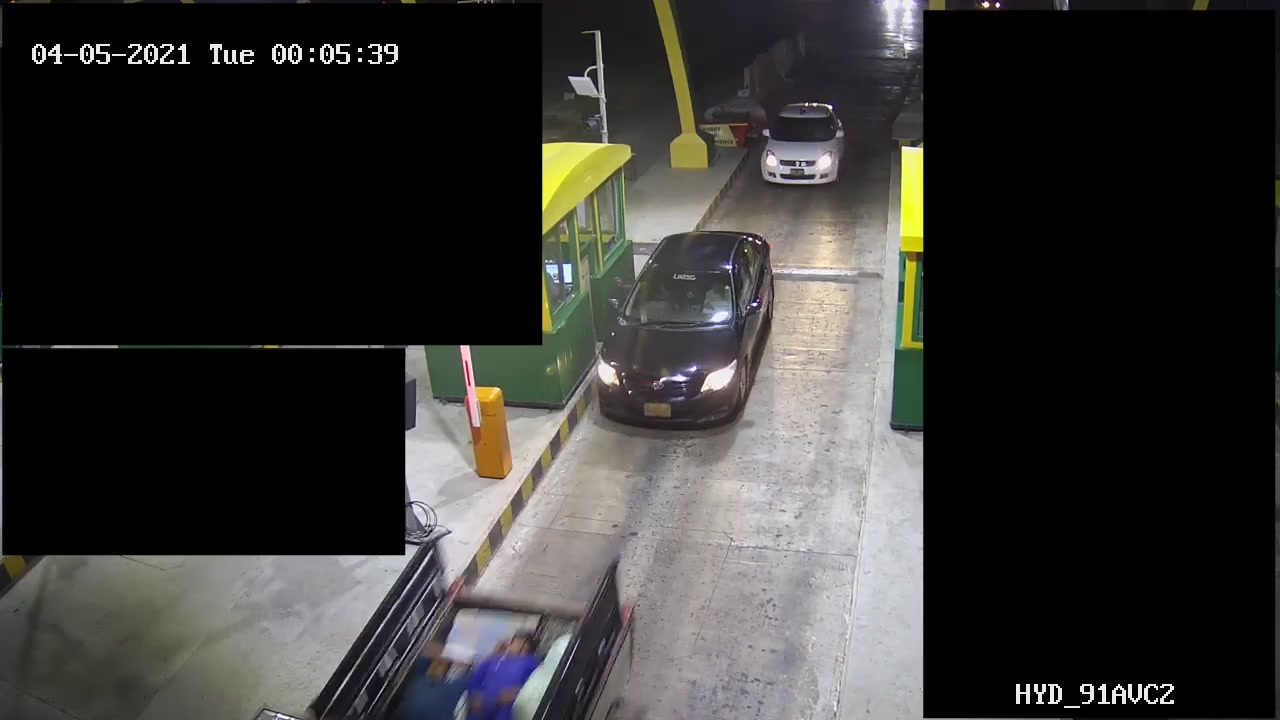F1: (593, 222, 789, 437)
